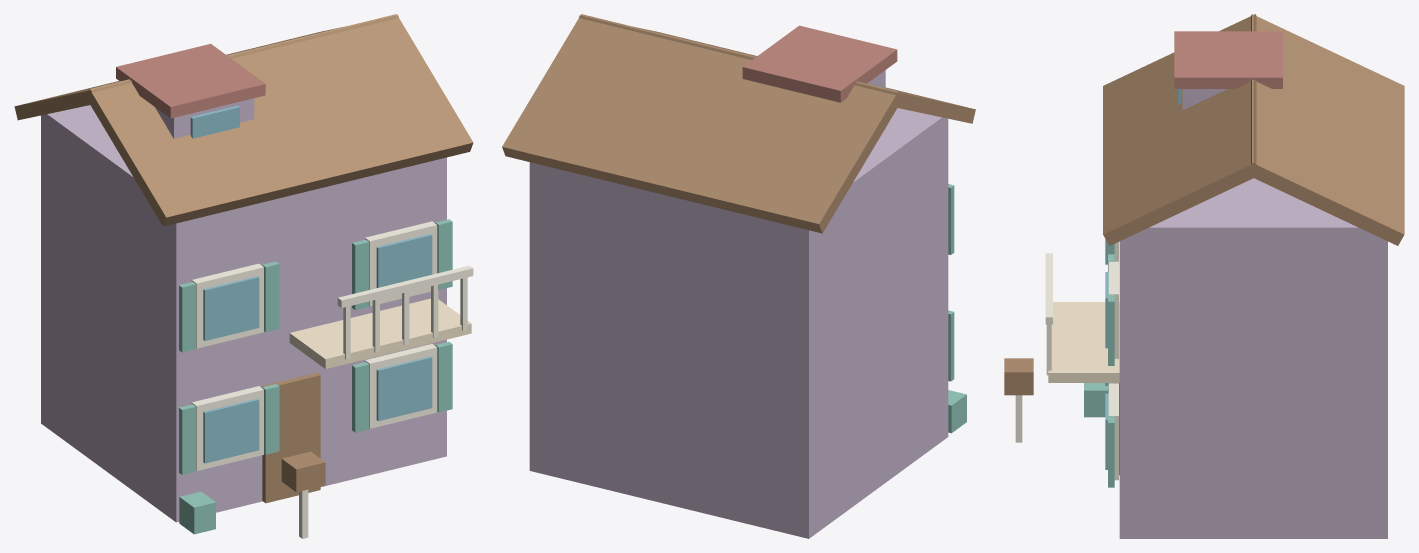
File: home-03.glb
3 renders of one model, left to right at view 1: azimuth 30°, elevation 25°; view 2: azimuth 150°, elevation 25°; view 3: azimuth 270°, elevation 25°, orthographic. The views are drawn at different scales.
Parts seen in each view (by area): view 1: dormer, front door.003, dormer window, balcony baluster.001, flower planter.002, dormer cap, balcony deck; view 2: dormer, front door.003, dormer cap, flower planter.002; view 3: dormer, front door.003, dormer cap, balcony deck, balcony baluster.001, flower planter.002, dormer window.
Part boxes in pixels (x1,y1,x2,y2): dormer: (41,98,446,522); front door.003: (14,14,473,503); dormer window: (190,105,432,463); balcony baluster.001: (191,221,473,538); flower planter.002: (179,219,452,534); dormer cap: (116,43,265,118); balcony deck: (289,298,471,368); dormer: (529,70,948,538); front door.003: (502,14,975,233); dormer cap: (742,25,897,102); flower planter.002: (948,184,966,433); dormer: (1119,89,1387,538); front door.003: (1004,14,1404,475); dormer cap: (1174,31,1282,88); balcony deck: (1048,302,1119,382); balcony baluster.001: (1015,242,1118,480); flower planter.002: (1084,244,1114,487); dormer window: (1105,89,1181,469).
Size of the model in its own units: 4.2 by 5.09 by 4.77.
